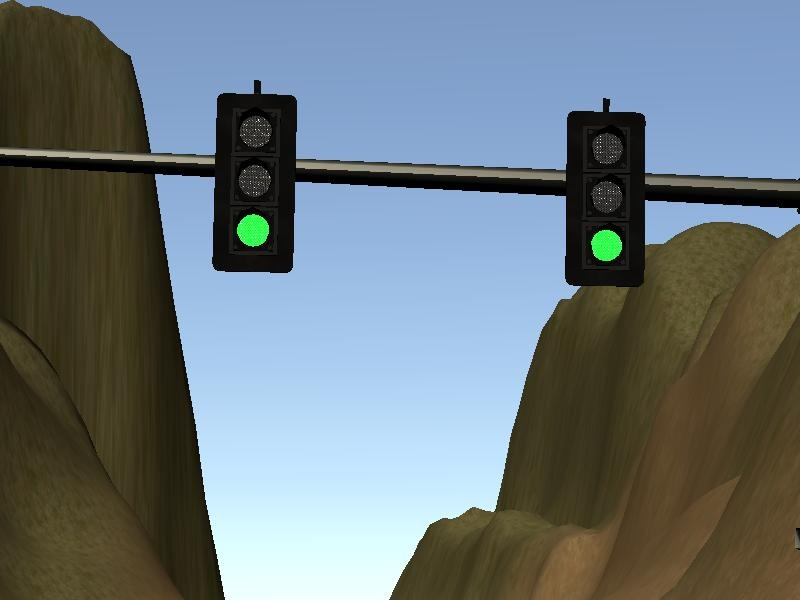green: (204, 70, 303, 289), (555, 86, 654, 291)
